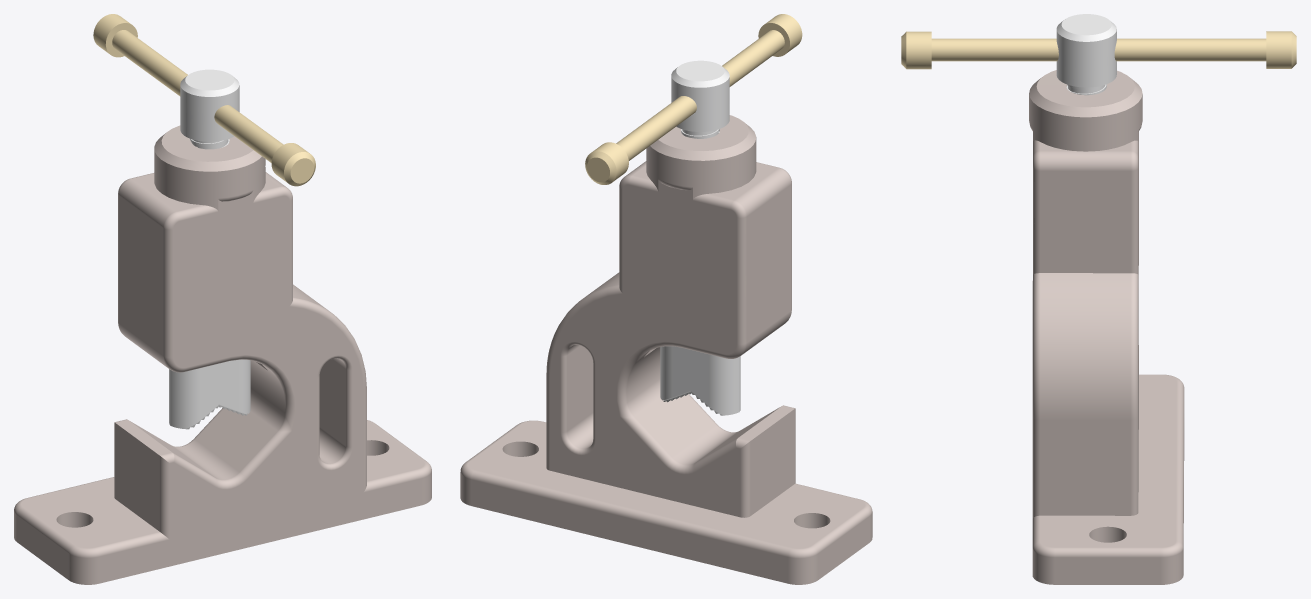
Rendered from pipe_vise.glb.
The picture shows the model from 3 angles, left to right: view 1: azimuth 30°, elevation 25°; view 2: azimuth 150°, elevation 25°; view 3: azimuth 270°, elevation 25°; orthographic projection. The views are drawn at different scales.
Parts seen in each view (by area): view 1: Body1 (×4); view 2: Body1 (×4); view 3: Body1 (×3).
Part boxes in pixels (x1=…): Body1 (×4): x1=14, y1=14, x2=431, y2=584; Body1 (×4): x1=460, y1=14, x2=872, y2=584; Body1 (×3): x1=901, y1=14, x2=1296, y2=584.
Size of the model in its own units: 0.1681 by 0.2012 by 0.157.
